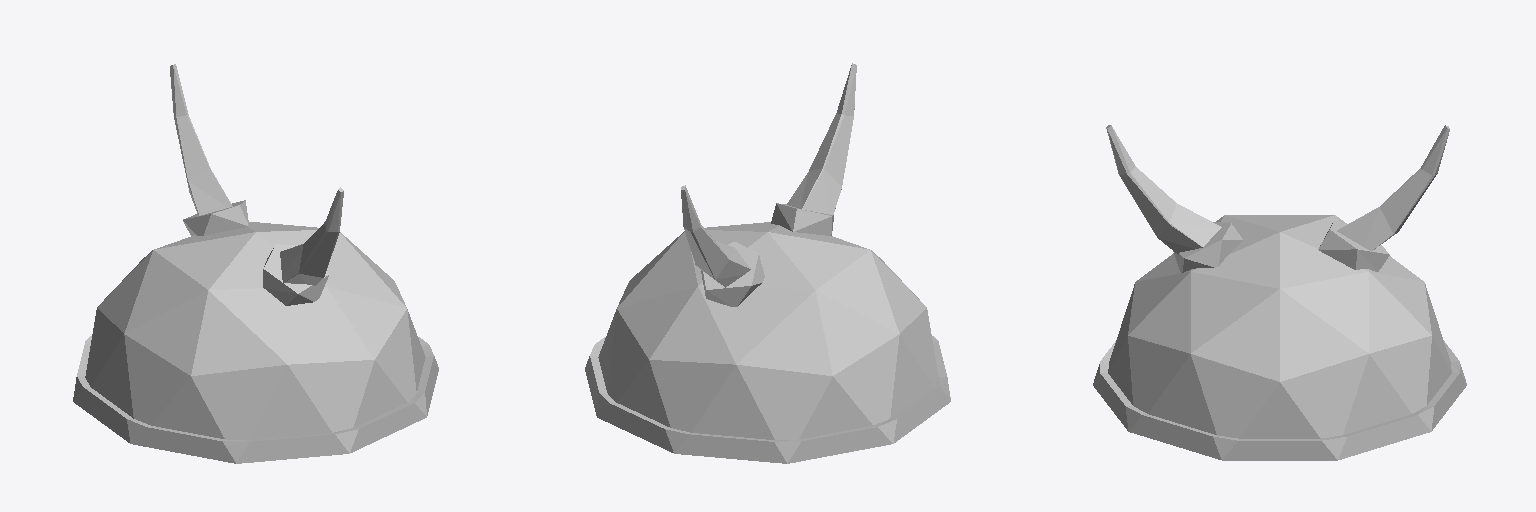
The model's file is Beetle Hat.obj.
3 views of the same model, side by side, from view 1: azimuth 30°, elevation 25°; view 2: azimuth 150°, elevation 25°; view 3: azimuth 270°, elevation 25° (orthographic).
Parts seen in each view (by area): view 1: Base_Icosphere, Rims_Icosphere.001, Horns_Cylinder.003; view 2: Base_Icosphere, Rims_Icosphere.001, Horns_Cylinder.003; view 3: Base_Icosphere, Rims_Icosphere.001, Horns_Cylinder.003.
Boxes of the visible parts, <box> form: Base_Icosphere: <box>85,200,425,439</box>; Rims_Icosphere.001: <box>73,336,438,463</box>; Horns_Cylinder.003: <box>170,64,343,285</box>; Base_Icosphere: <box>598,203,938,439</box>; Rims_Icosphere.001: <box>585,336,950,463</box>; Horns_Cylinder.003: <box>681,63,856,287</box>; Base_Icosphere: <box>1108,215,1451,438</box>; Rims_Icosphere.001: <box>1093,341,1466,460</box>; Horns_Cylinder.003: <box>1106,125,1449,254</box>.
Size of the model in its own units: 1.99 by 1.62 by 2.1.